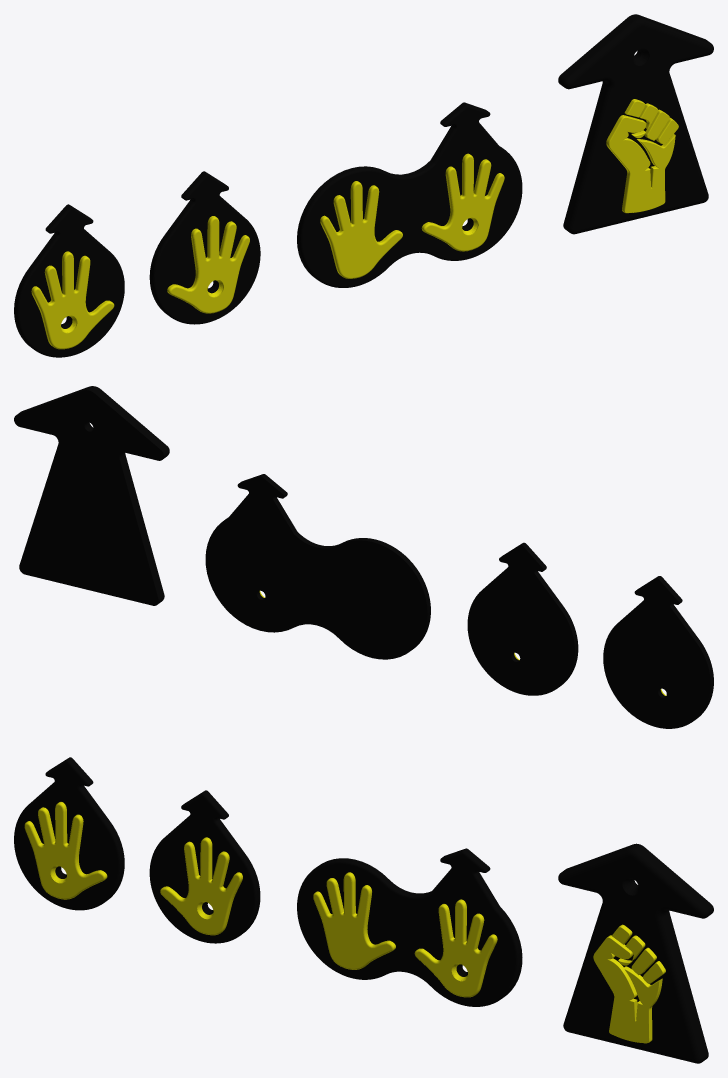
The model's file is conjunto_marcadores.glb.
3 renders of one model, top to bottom at view 1: azimuth 30°, elevation 25°; view 2: azimuth 150°, elevation 25°; view 3: azimuth 330°, elevation 25°, orthographic.
Size of the model in its own units: 0.4014 by 0.1102 by 0.0109.
